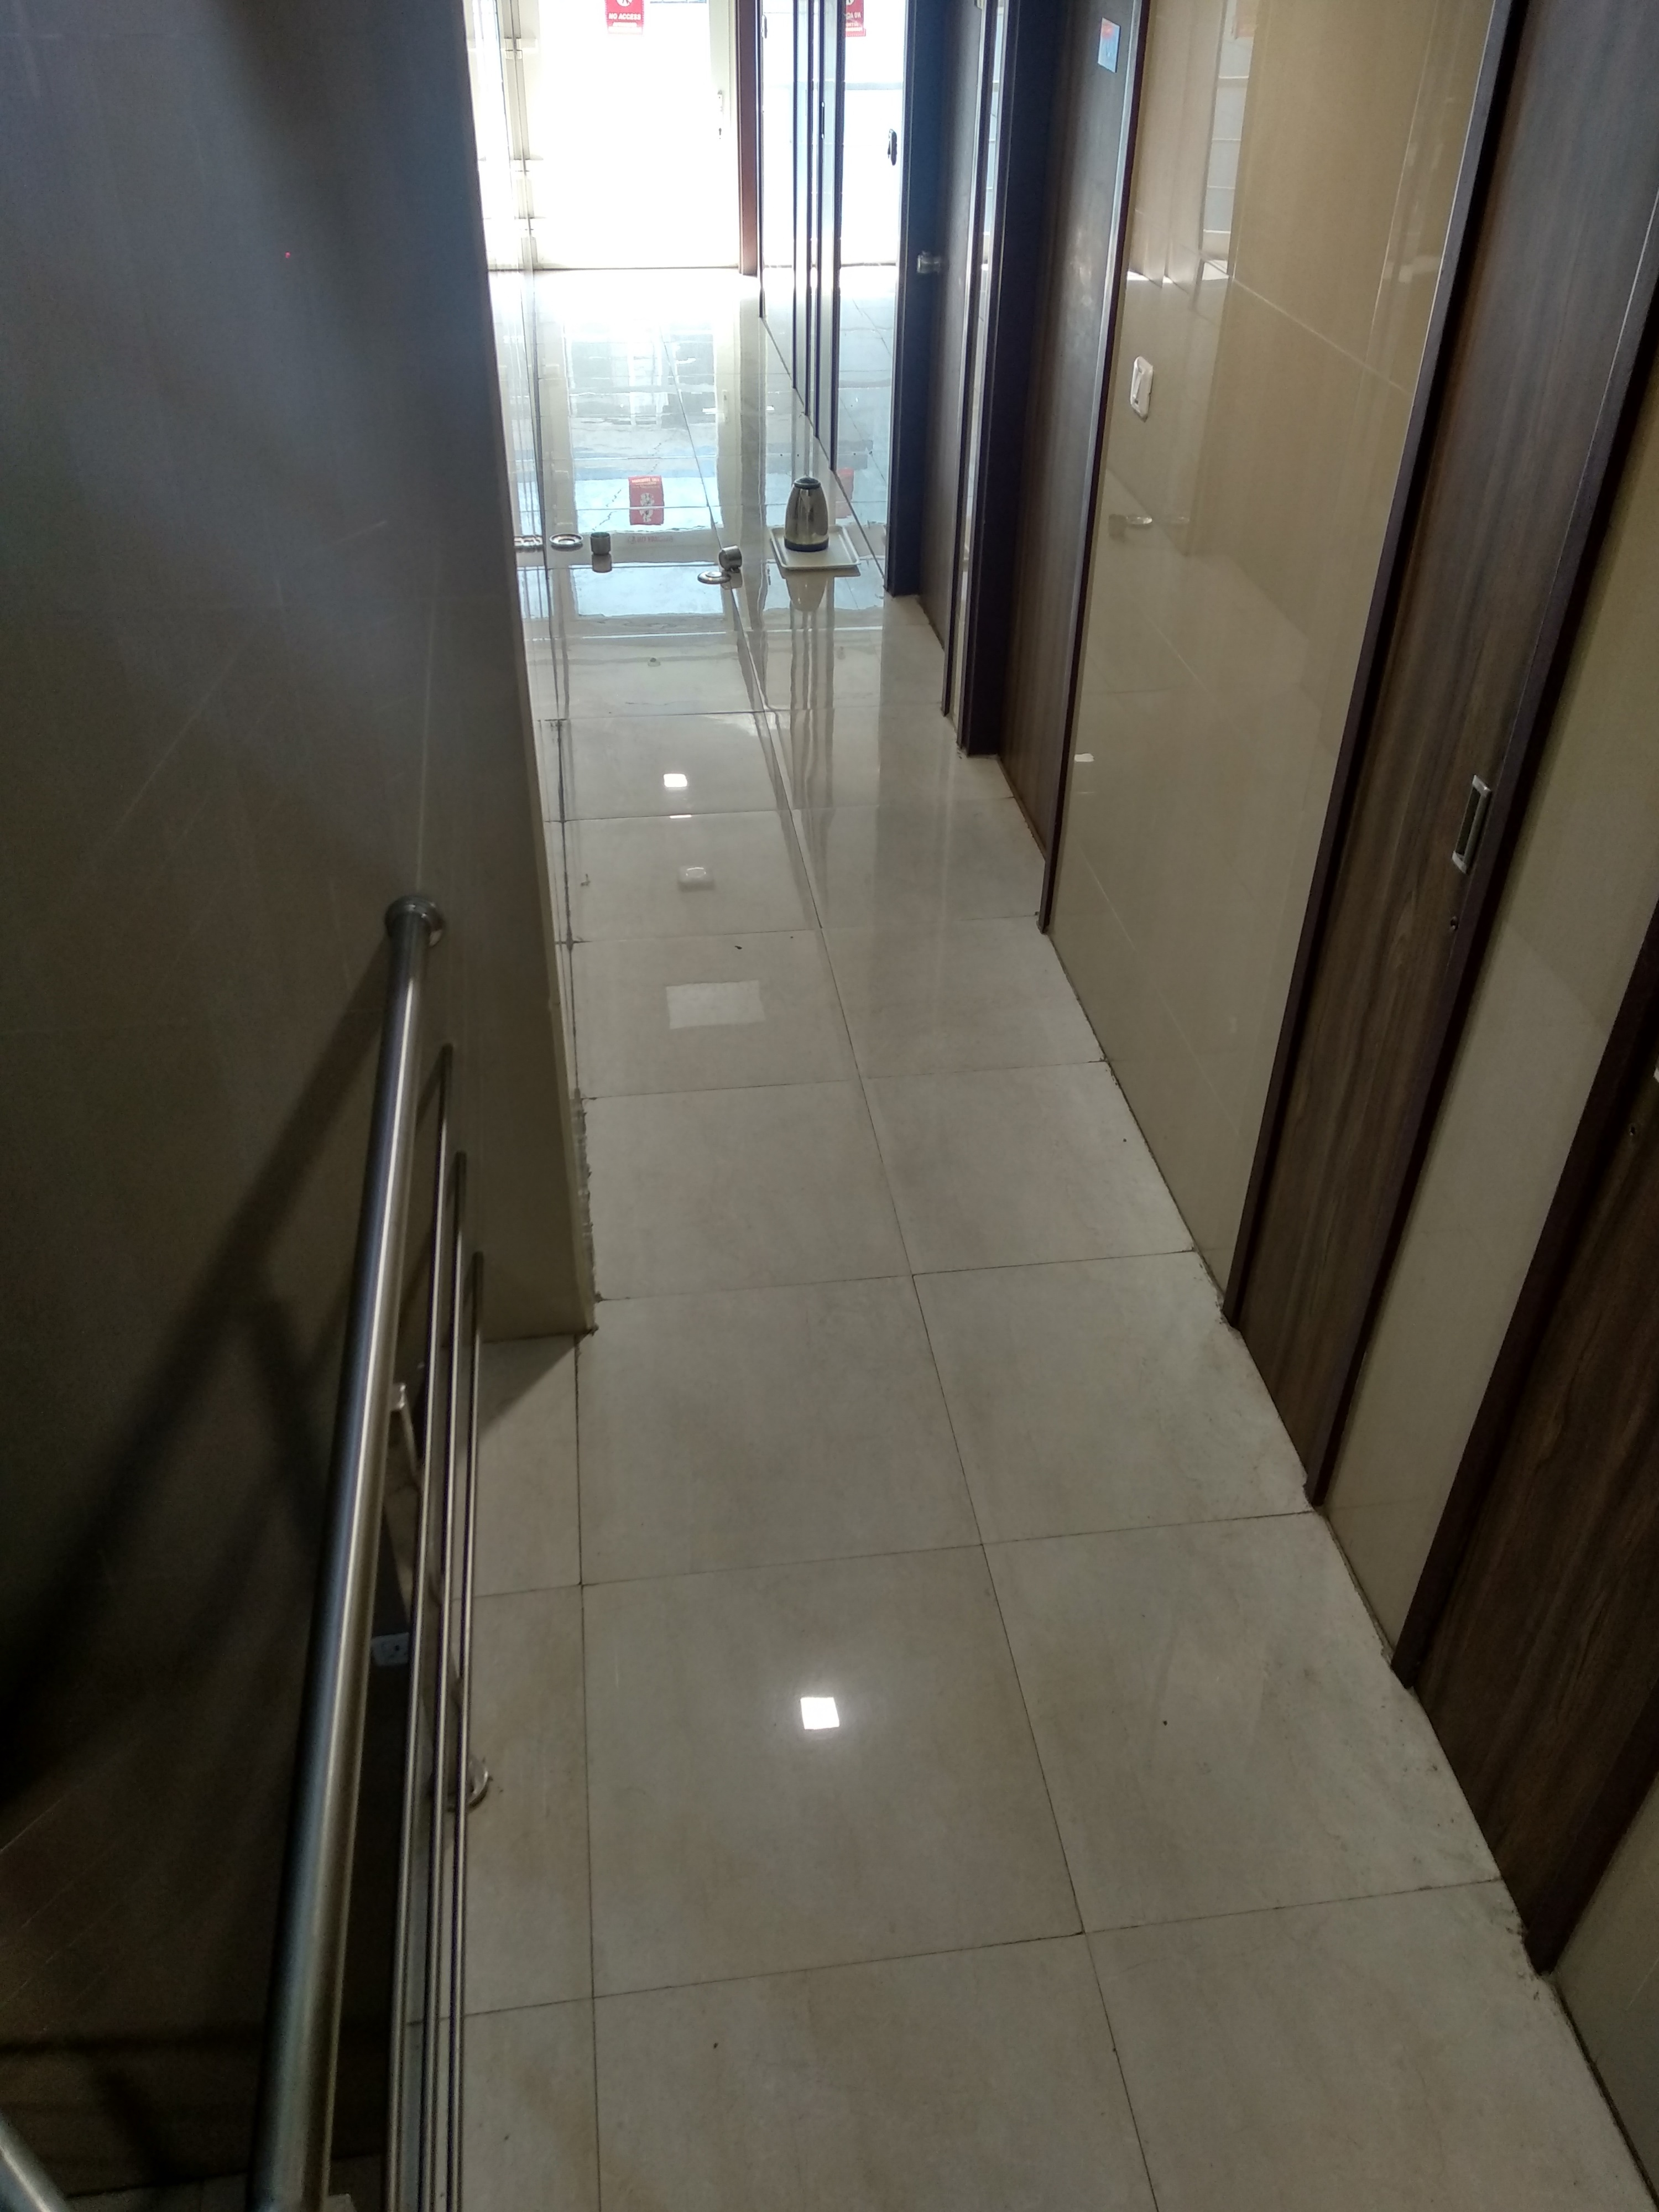CUP: (718, 545, 748, 575), (589, 529, 613, 556)
JUG: (784, 479, 833, 556)
